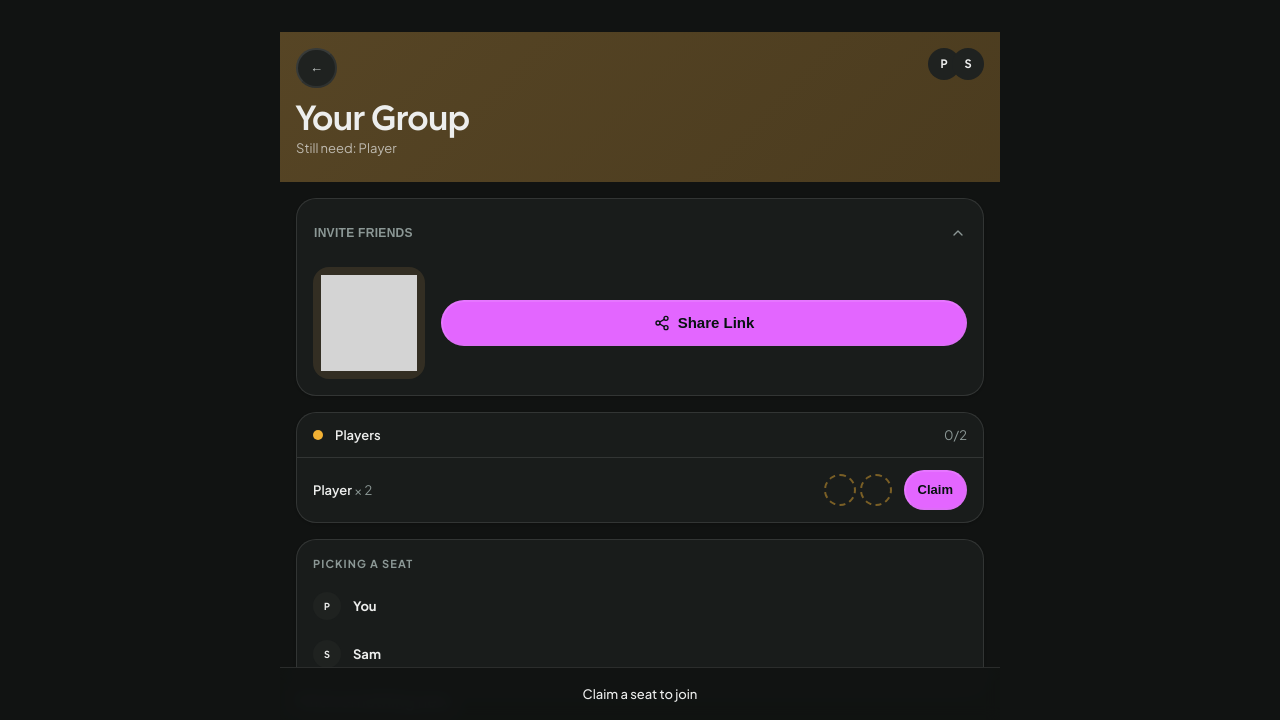
it: GroupPage › a mode with pre-queue options › says so when the roster cannot be reached
Click the button "Claim": click(935, 490) [904,470,967,510]
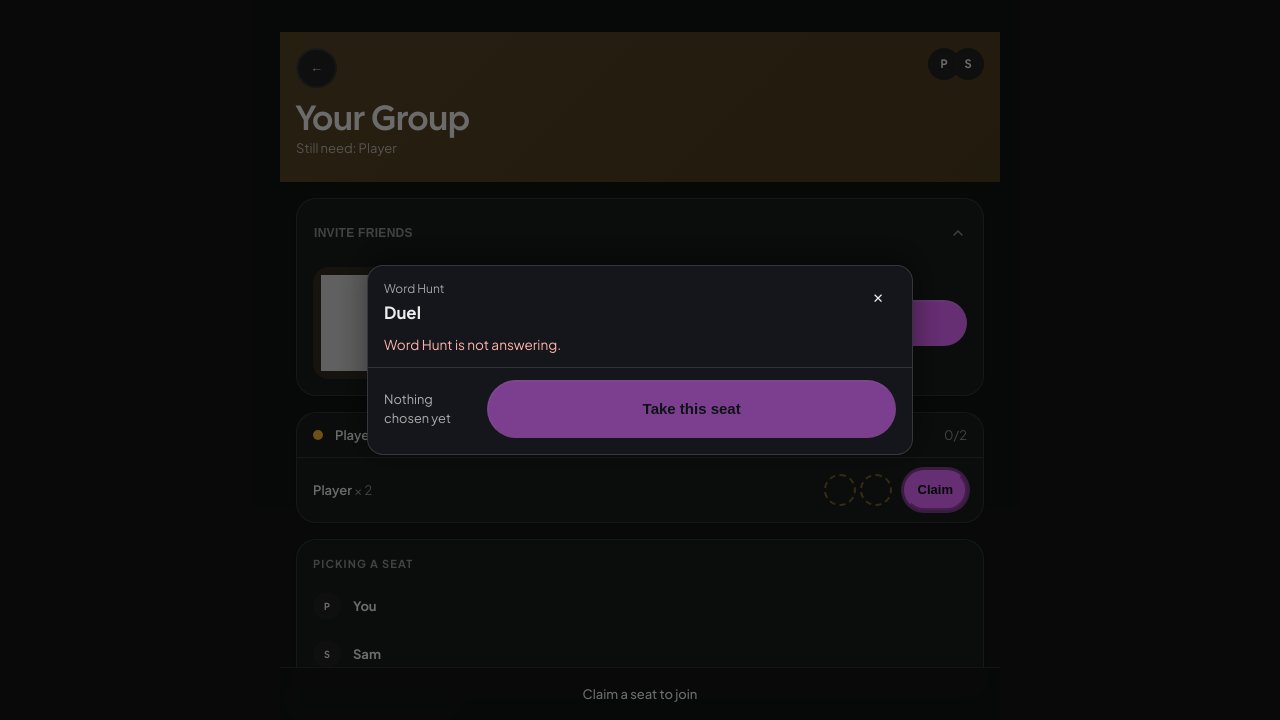
Check: the dialog shows "Word Hunt is not answering.", box [384,336,561,353]
Check: the button "Take this seat" is disabled, box [487,380,896,438]
